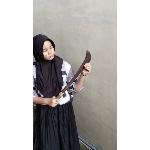Golok: (56, 49, 94, 101)
